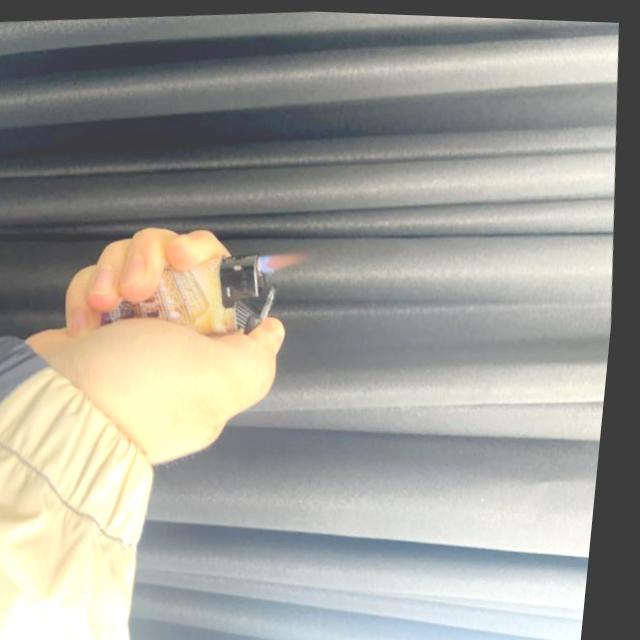helmet: (260, 243, 317, 275)
